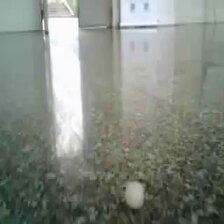w: (124, 180, 148, 210)
